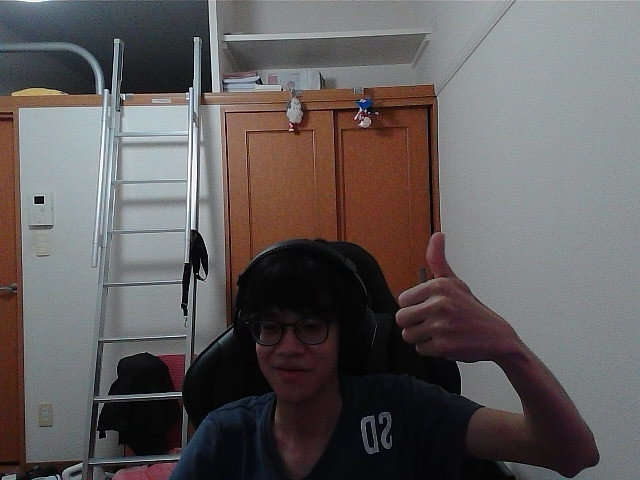thumb_up: (402, 240, 494, 348)
